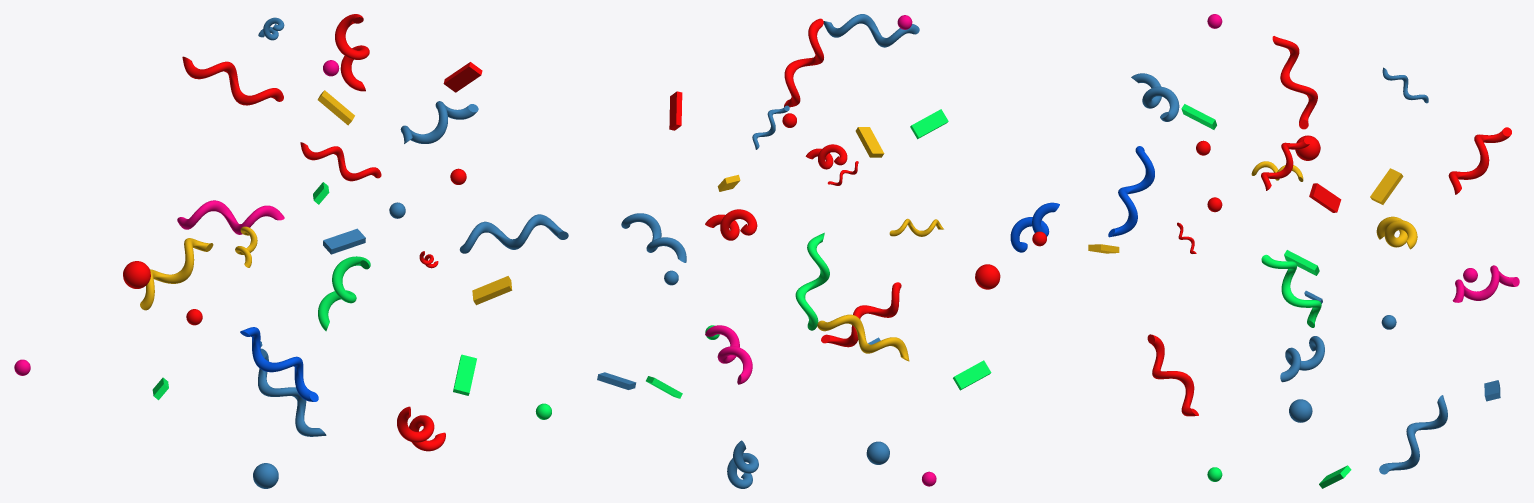
The model's file is Confetti.fbx.
3 renders of one model, left to right at view 1: azimuth 30°, elevation 25°; view 2: azimuth 150°, elevation 25°; view 3: azimuth 270°, elevation 25°, orthographic. The views are drawn at different scales.
Parts seen in each view (by area): view 1: pCylinder18, pCylinder12, pCylinder19, pCylinder11, pCylinder14, pCylinder17, pCylinder13, pCylinder20, pCylinder16, pCylinder15, pCylinder22, pCube22 (+4 smaller); view 2: pCylinder20, pCylinder13, pCylinder14, pCylinder11, pCylinder16, pCylinder17, pCylinder12, pCylinder18, pCylinder15, pCylinder19, pCylinder22, pCube24 (+3 smaller); view 3: pCylinder19, pCylinder15, pCylinder14, pCylinder17, pCylinder13, pCylinder12, pCylinder16, pCylinder20, pCylinder18, pCylinder11, pCylinder22, pCube23 (+1 smaller).
Boxes of the visible parts, left/top/right/bottom form: pCylinder18: left=459, top=214, right=568, bottom=253; pCylinder12: left=182, top=56, right=283, bottom=105; pCylinder19: left=240, top=327, right=318, bottom=401; pCylinder11: left=177, top=200, right=284, bottom=234; pCylinder14: left=335, top=14, right=369, bottom=91; pCylinder17: left=397, top=406, right=445, bottom=451; pCylinder13: left=318, top=256, right=370, bottom=331; pCylinder20: left=140, top=238, right=213, bottom=310; pCylinder16: left=400, top=101, right=478, bottom=143; pCylinder15: left=258, top=348, right=326, bottom=436; pCylinder22: left=300, top=142, right=381, bottom=181; pCube22: left=453, top=354, right=476, bottom=395; pCylinder20: left=817, top=314, right=909, bottom=361; pCylinder13: left=795, top=232, right=829, bottom=330; pCylinder14: left=784, top=18, right=823, bottom=107; pCylinder11: left=705, top=325, right=752, bottom=384; pCylinder16: left=823, top=14, right=919, bottom=47; pCylinder17: left=821, top=282, right=901, bottom=347; pCylinder12: left=705, top=209, right=757, bottom=240; pCylinder18: left=621, top=213, right=686, bottom=262; pCylinder15: left=727, top=440, right=758, bottom=488; pCylinder19: left=1010, top=202, right=1059, bottom=252; pCylinder22: left=805, top=144, right=847, bottom=169; pCube24: left=910, top=109, right=948, bottom=139; pCylinder19: left=1108, top=146, right=1154, bottom=237; pCylinder15: left=1379, top=395, right=1447, bottom=474; pCylinder14: left=1272, top=36, right=1317, bottom=129; pCylinder17: left=1147, top=334, right=1198, bottom=416; pCylinder13: left=1261, top=254, right=1321, bottom=327; pCylinder12: left=1448, top=127, right=1511, bottom=194; pCylinder16: left=1131, top=73, right=1179, bottom=121; pCylinder20: left=1376, top=216, right=1417, bottom=249; pCylinder18: left=1280, top=336, right=1324, bottom=382; pCylinder11: left=1452, top=265, right=1519, bottom=302; pCylinder22: left=1261, top=137, right=1311, bottom=190; pCube23: left=1370, top=168, right=1403, bottom=204.
Bounding box in the file's own units: 830 × 833 × 762.
